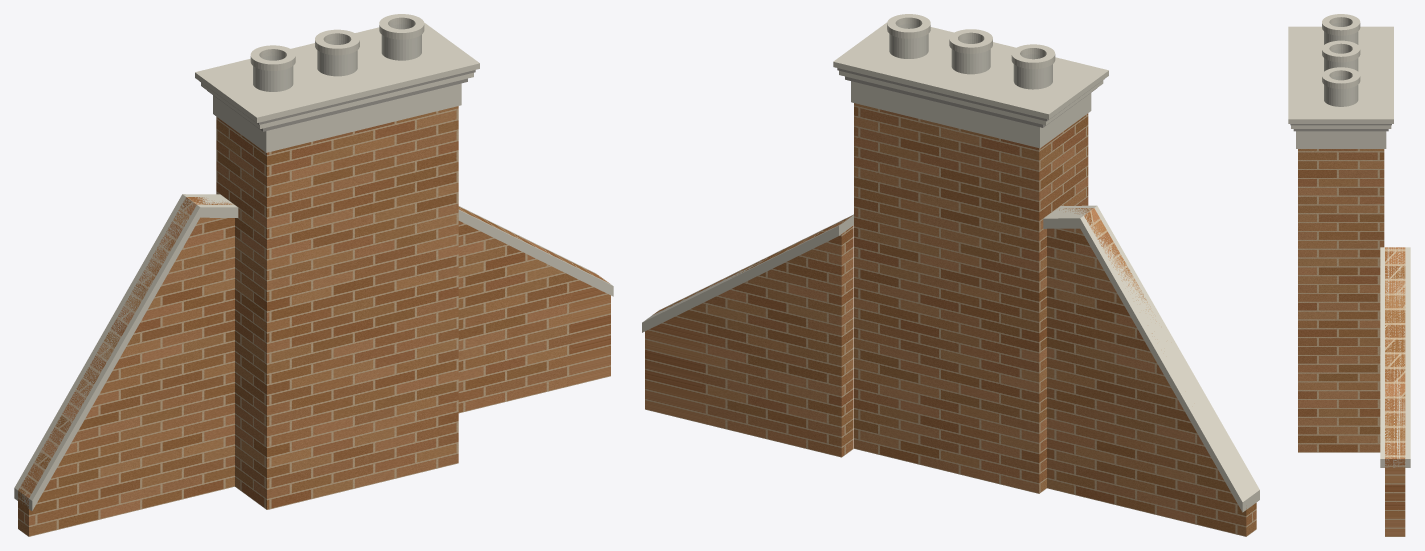
The model's file is tang-house-no20-three-chimney-pots-near.glb.
The picture shows the model from 3 angles, left to right: view 1: azimuth 30°, elevation 25°; view 2: azimuth 150°, elevation 25°; view 3: azimuth 270°, elevation 25°; orthographic projection. The views are drawn at different scales.
Visible parts, largest first — view 1: 唐氏花园住宅20号山墙三孔砖烟囱; view 2: 唐氏花园住宅20号山墙三孔砖烟囱; view 3: 唐氏花园住宅20号山墙三孔砖烟囱.
Boxes of the visible parts, left/top/right/bottom form: 唐氏花园住宅20号山墙三孔砖烟囱: left=14, top=14, right=613, bottom=536; 唐氏花园住宅20号山墙三孔砖烟囱: left=642, top=14, right=1259, bottom=536; 唐氏花园住宅20号山墙三孔砖烟囱: left=1288, top=14, right=1410, bottom=536.
Bounding box in the file's own units: 4.58 × 3.12 × 0.95.
Materials: 5 (1 with a texture image).
